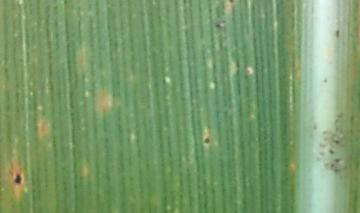tarspot: (10, 171, 26, 187), (327, 146, 337, 159), (202, 136, 212, 146), (334, 28, 342, 40), (244, 67, 253, 77), (320, 77, 329, 86), (334, 138, 341, 148), (334, 165, 341, 175), (312, 122, 318, 133), (329, 162, 334, 168)
